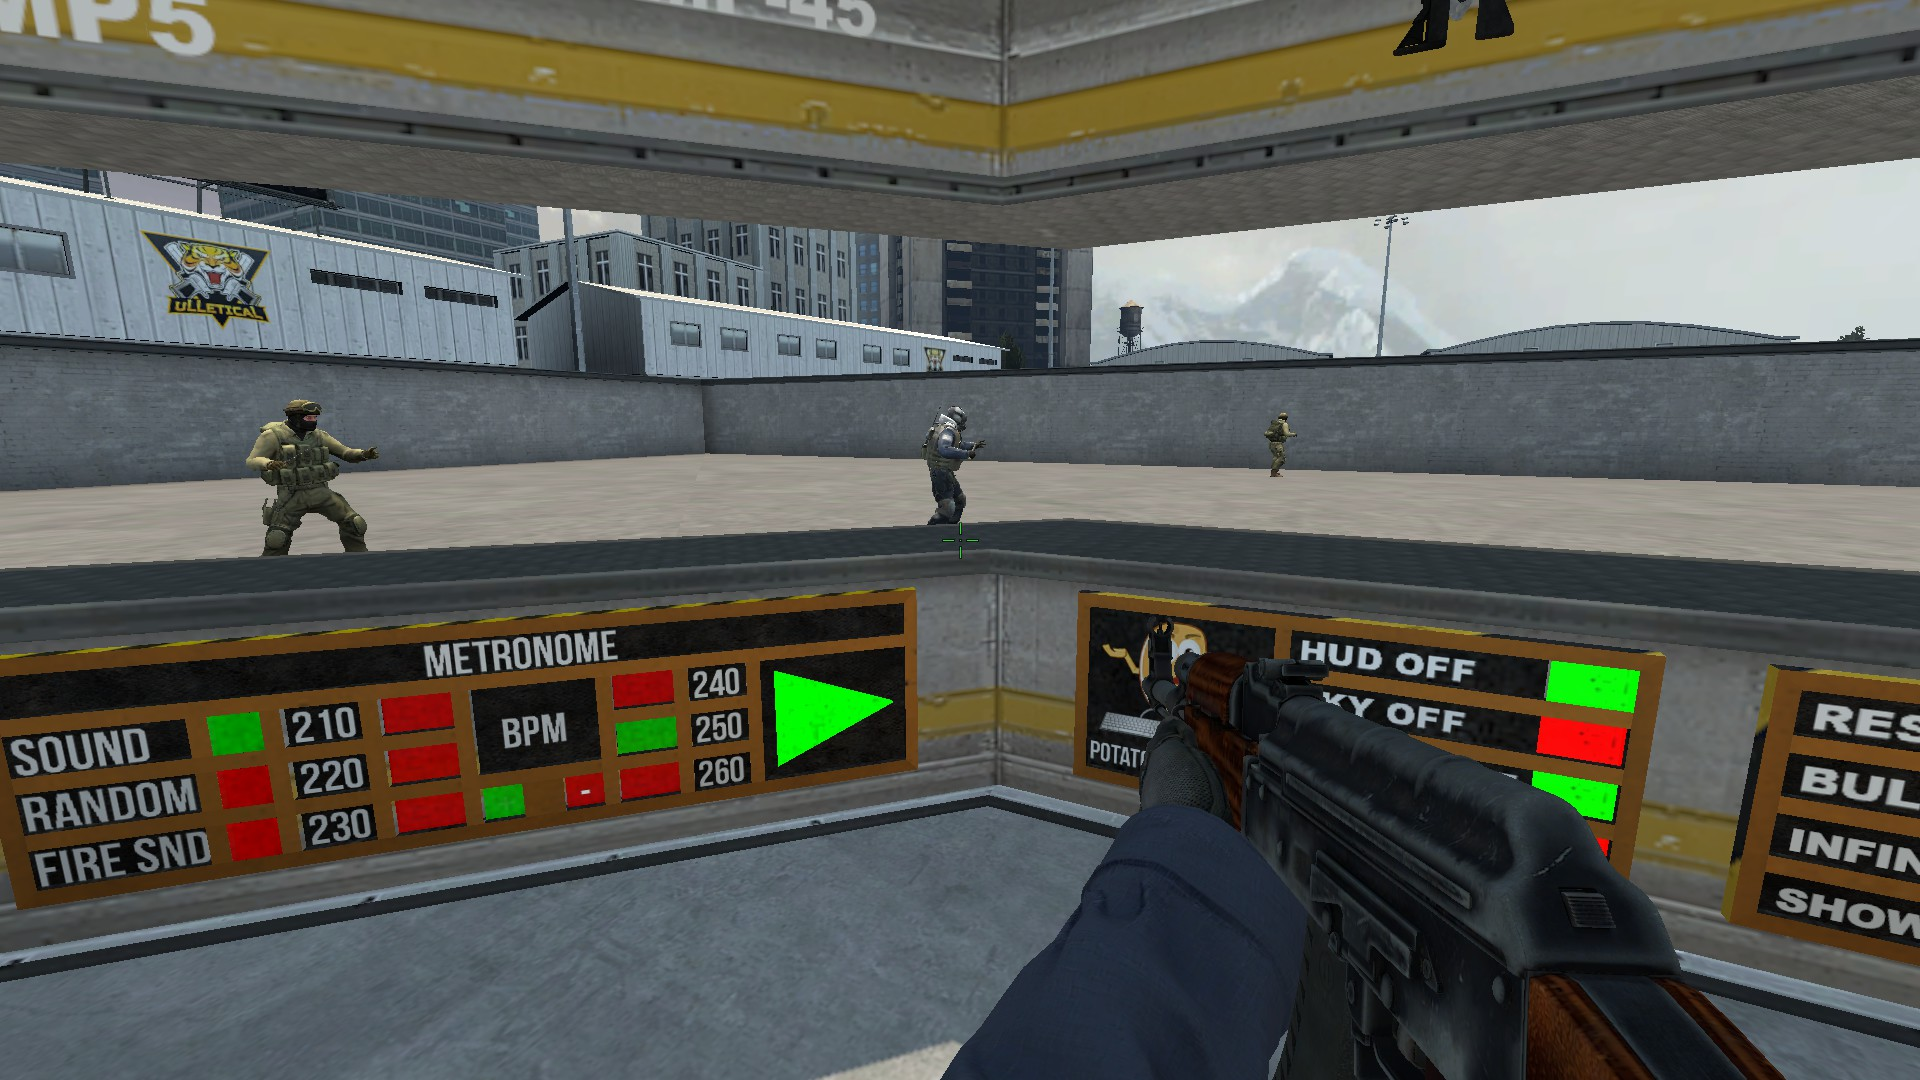ct: (243, 396, 382, 559), (920, 406, 985, 527)
ct head: (280, 396, 327, 435), (940, 404, 972, 433)
